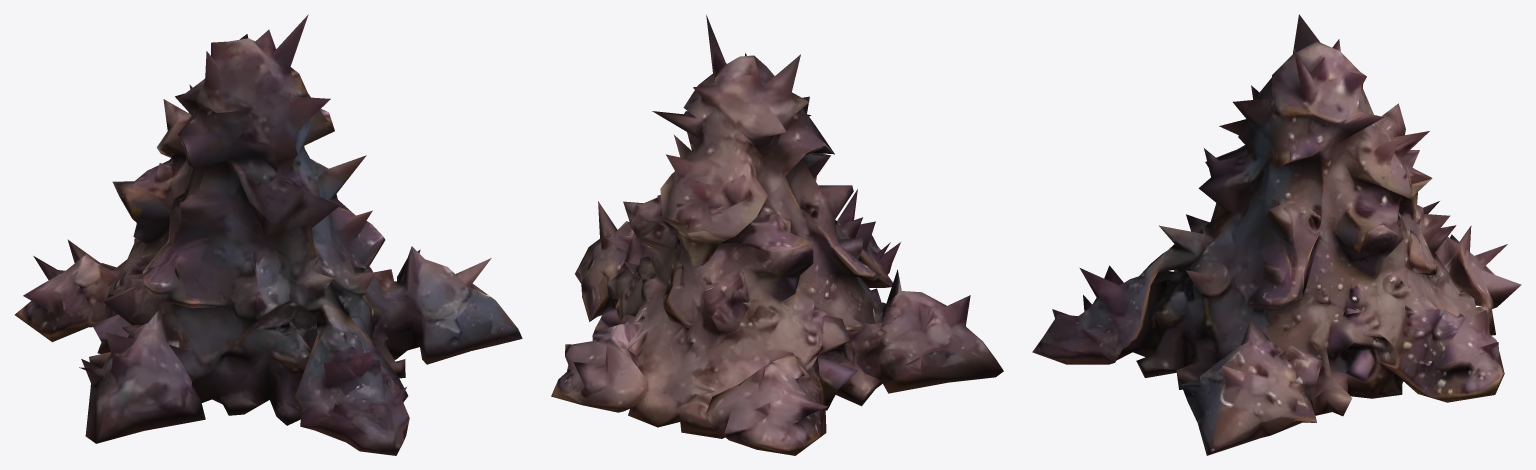
Rendered from e_chitin.glb.
3 views of the same model, side by side, from view 1: azimuth 30°, elevation 25°; view 2: azimuth 150°, elevation 25°; view 3: azimuth 270°, elevation 25° (orthographic).
Visible parts, largest first — view 1: tripo_node_6c7510fb-a71c-4ad0-abda-c4c387d8b168; view 2: tripo_node_6c7510fb-a71c-4ad0-abda-c4c387d8b168; view 3: tripo_node_6c7510fb-a71c-4ad0-abda-c4c387d8b168.
Boxes of the visible parts, bbox=[...] form: tripo_node_6c7510fb-a71c-4ad0-abda-c4c387d8b168: bbox=[14, 14, 522, 455]; tripo_node_6c7510fb-a71c-4ad0-abda-c4c387d8b168: bbox=[551, 15, 1003, 455]; tripo_node_6c7510fb-a71c-4ad0-abda-c4c387d8b168: bbox=[1032, 14, 1521, 455].
Size of the model in its own units: 0.9912 by 0.7376 by 1.
1 material, 1 textured.
